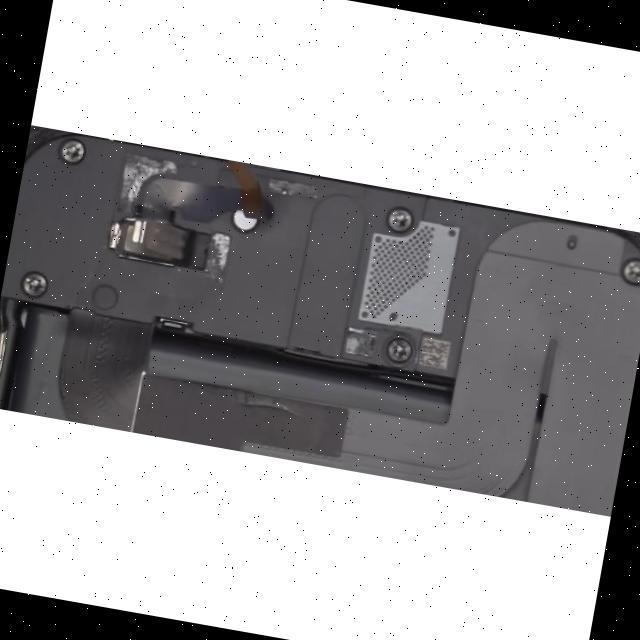Torx: (18, 269, 51, 300), (56, 136, 88, 166), (386, 337, 412, 362), (387, 208, 411, 231), (621, 259, 640, 283)
